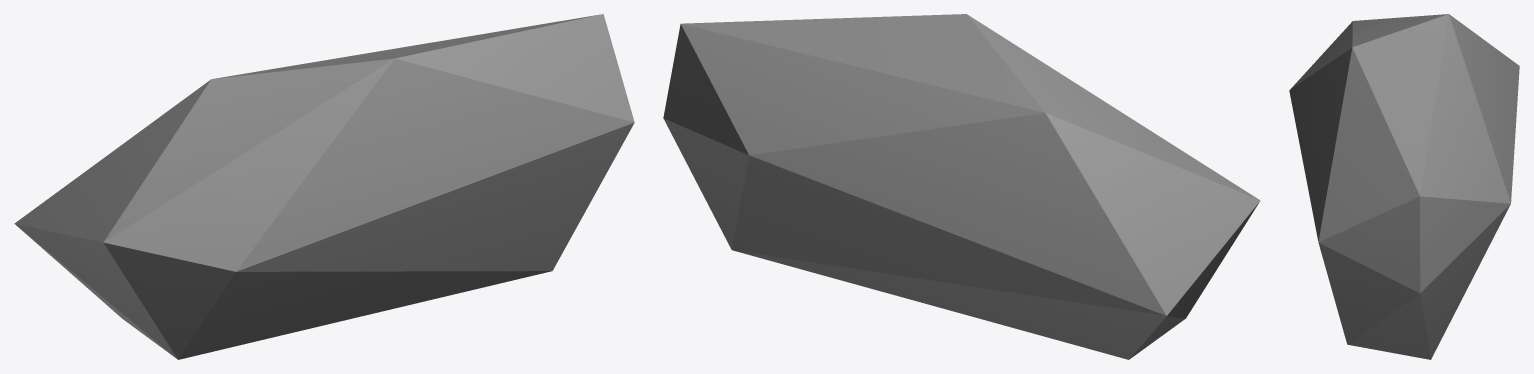
File: Rock_Small_Long_01.fbx
The picture shows the model from 3 angles, left to right: view 1: azimuth 30°, elevation 25°; view 2: azimuth 150°, elevation 25°; view 3: azimuth 270°, elevation 25°; orthographic projection. The views are drawn at different scales.
Visible parts, largest first — view 1: Rock_Small_Long; view 2: Rock_Small_Long; view 3: Rock_Small_Long.
Part boxes in pixels (x1,y1,x2,y2): Rock_Small_Long: (14,14,634,359); Rock_Small_Long: (663,14,1260,359); Rock_Small_Long: (1289,14,1519,359).
Bounding box in the file's own units: 0.7 × 0.3 × 0.275.
